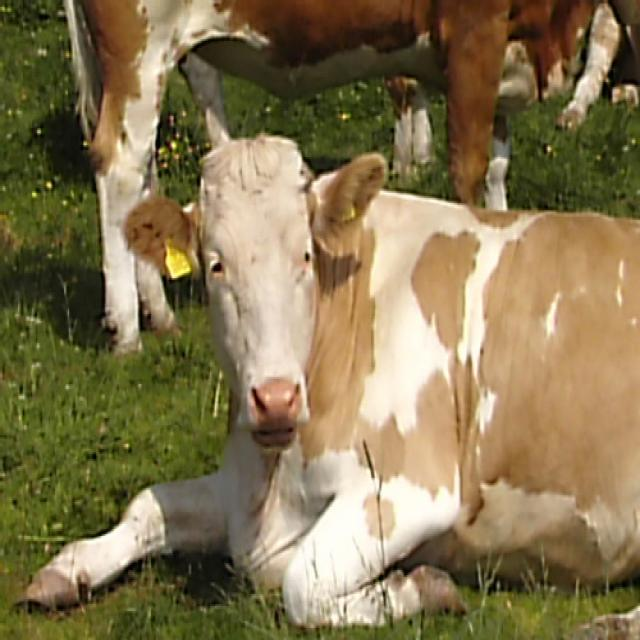cow: (12, 133, 639, 630), (59, 0, 595, 352), (494, 0, 637, 160)
